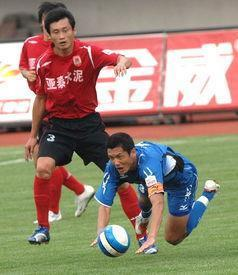Fall-Detected: (89, 128, 221, 255)
